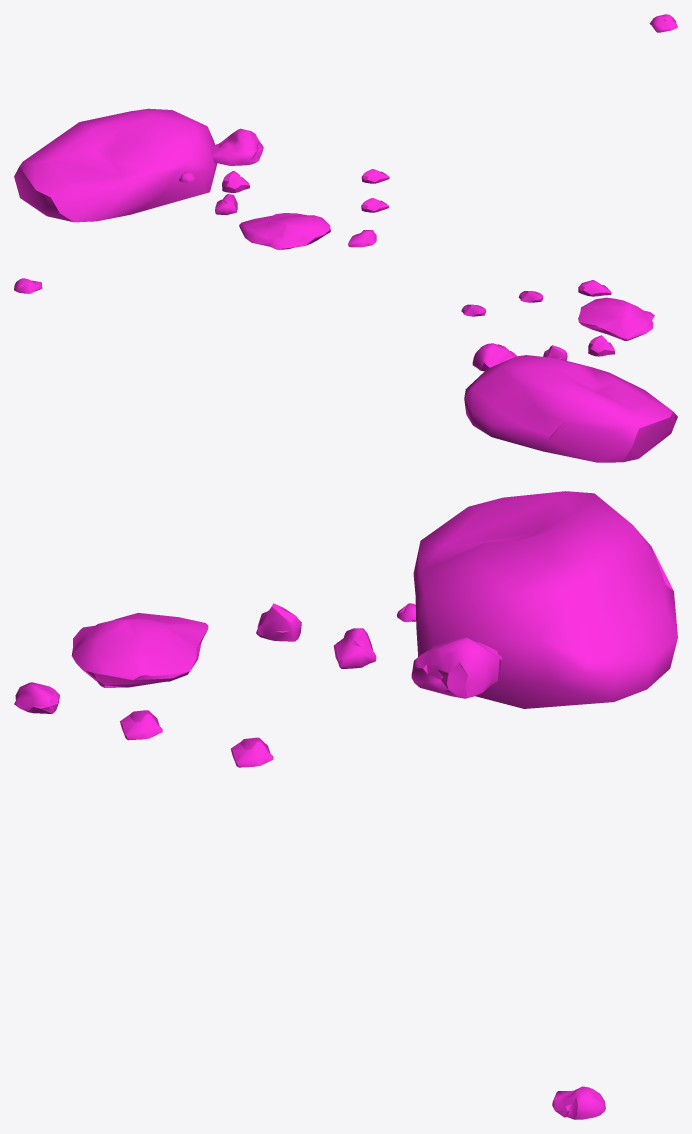
The model's file is sm_rock_02.gltf.
3 views of the same model, one above another, from view 1: azimuth 30°, elevation 25°; view 2: azimuth 150°, elevation 25°; view 3: azimuth 270°, elevation 25° (orthographic). The views are drawn at different scales.
Visible parts, largest first — view 1: sm_rock_02; view 2: sm_rock_02; view 3: sm_rock_02.
Boxes of the visible parts, bbox=[...] form: sm_rock_02: bbox=[14, 14, 677, 249]; sm_rock_02: bbox=[14, 278, 677, 462]; sm_rock_02: bbox=[14, 491, 677, 1119].
Bounding box in the file's own units: 5.35 × 0.4646 × 2.49.
